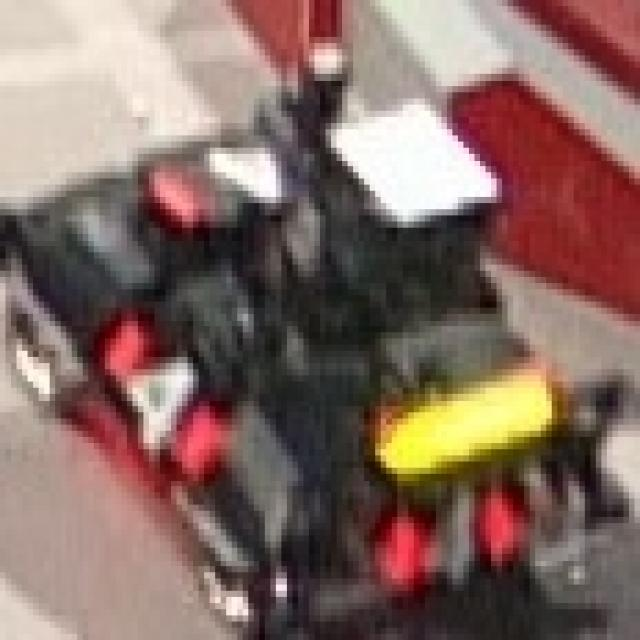R4: (94, 308, 226, 474), (381, 480, 518, 591)
